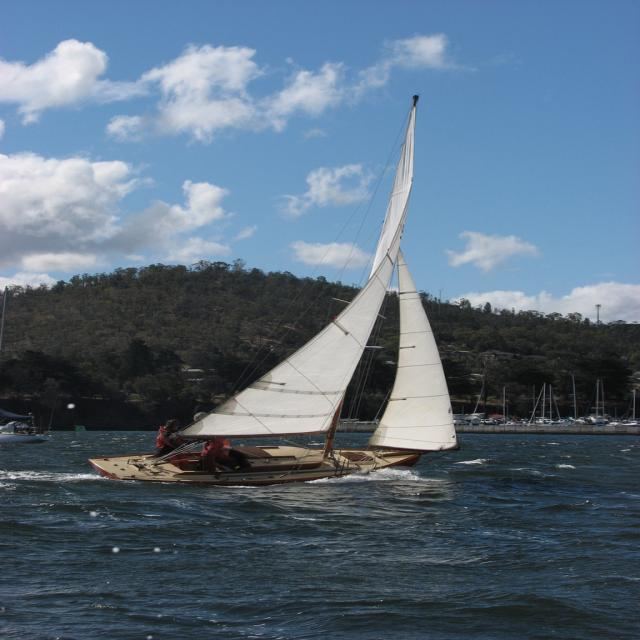Boat: (119, 120, 495, 484), (0, 411, 44, 446)
